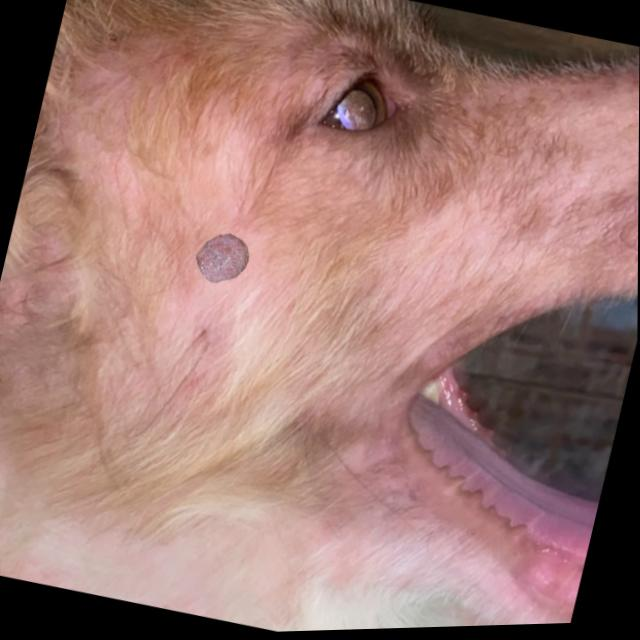ringworm: (180, 218, 265, 310)
